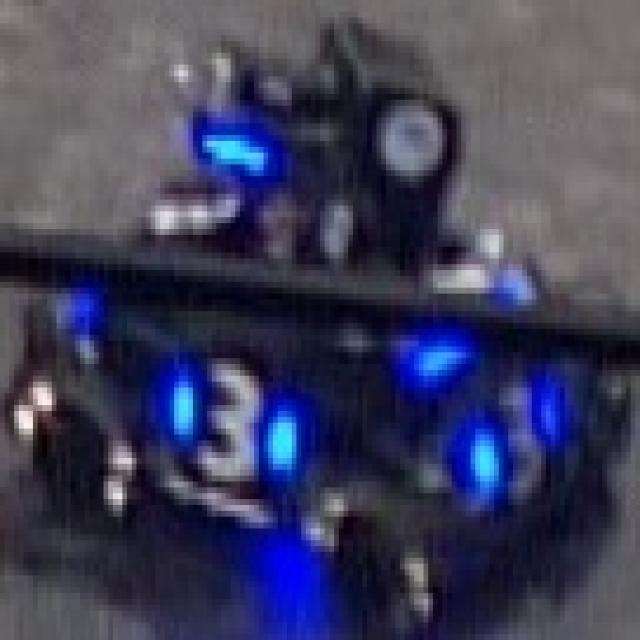B3: (165, 352, 301, 482), (466, 376, 560, 499)
